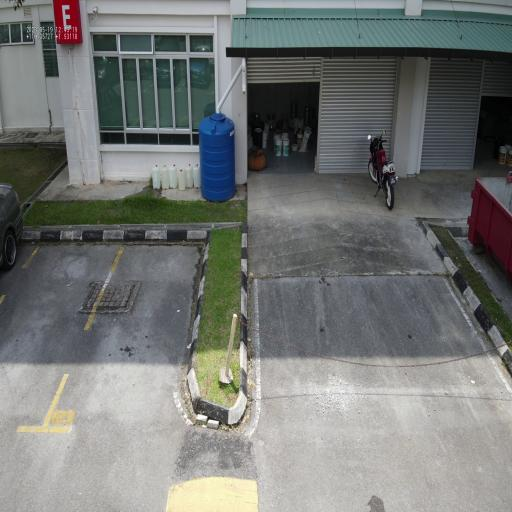Empty: (40, 229, 214, 438)
